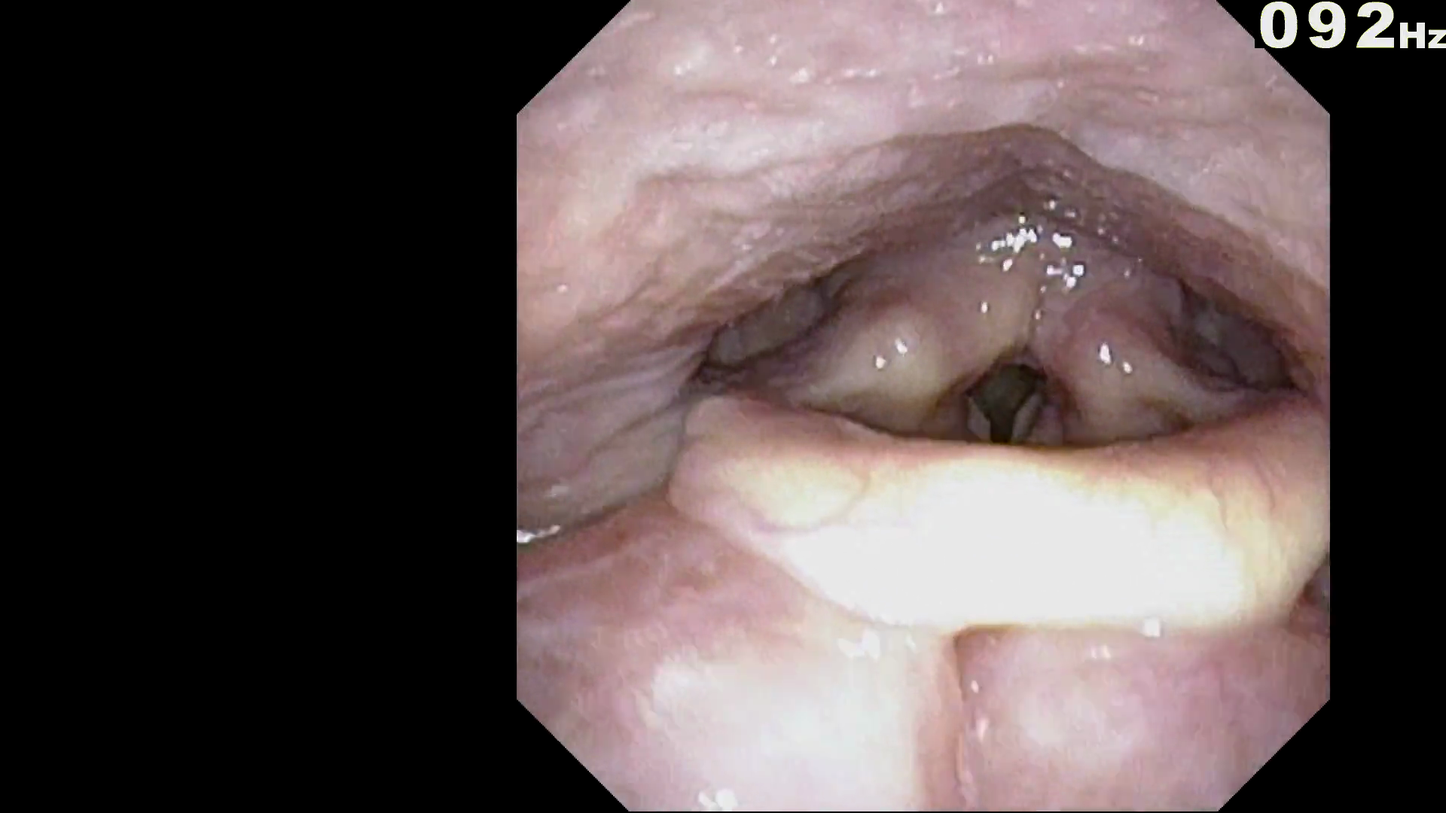epiglottis: (671, 347, 1323, 655)
trachea: (933, 287, 1098, 475)
